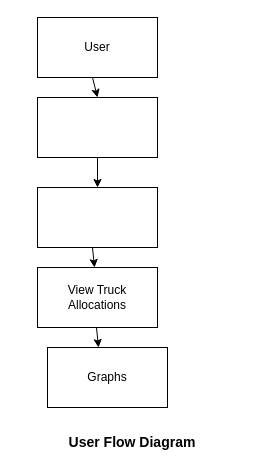
Image size: 264x475. Some labels were removed from this diagram. The shapes that lost their labels are listed below. From the top down, each one's centre as x and y in pixels, then its label:
At pixel 97 127: "Upload CSV".
At pixel 97 217: "Run Optimization".
